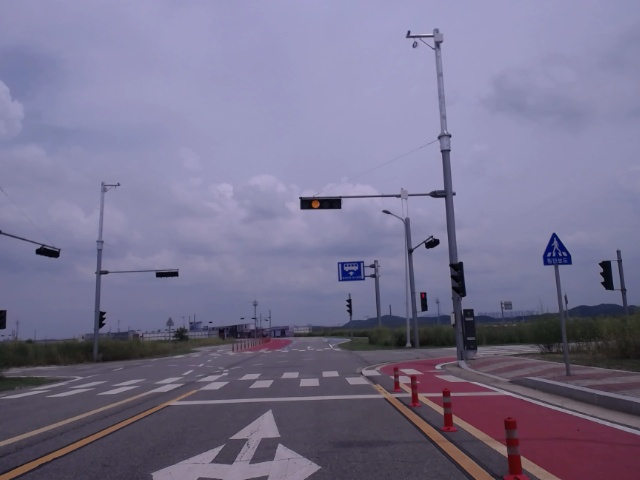orange_4: (299, 196, 343, 211)
